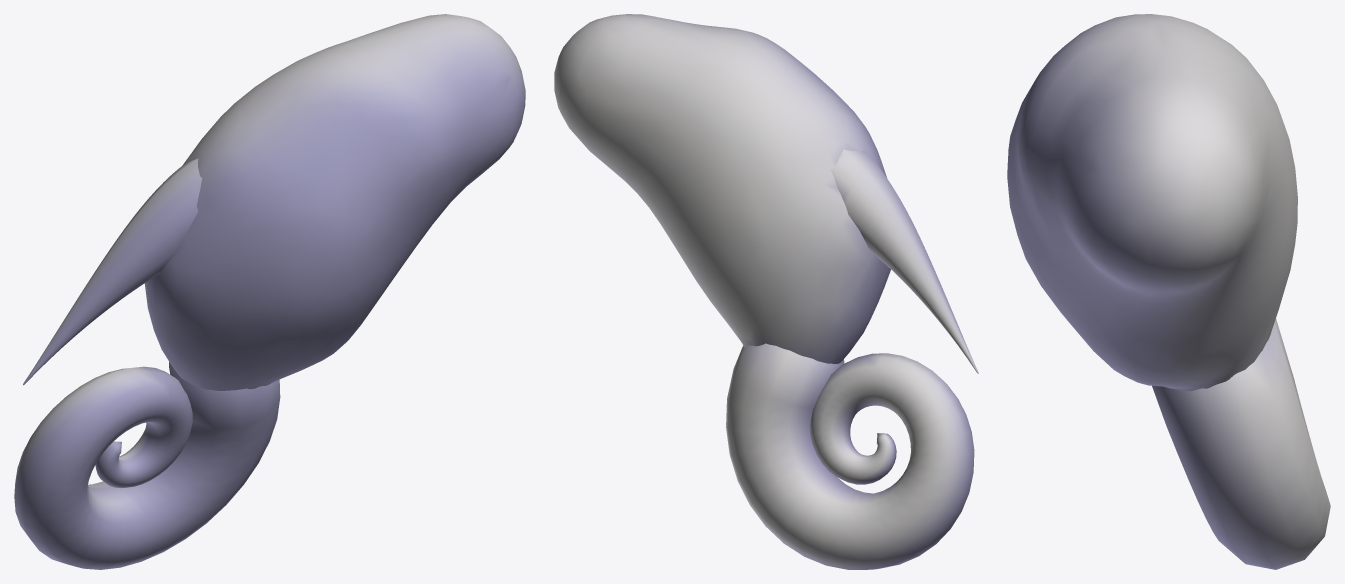
The model's file is gear5_lateral_esq.fbx.
The picture shows the model from 3 angles, left to right: view 1: azimuth 30°, elevation 25°; view 2: azimuth 150°, elevation 25°; view 3: azimuth 270°, elevation 25°; orthographic projection. The views are drawn at different scales.
Parts seen in each view (by area): view 1: gear5_lateral_esq; view 2: gear5_lateral_esq; view 3: gear5_lateral_esq.
Boxes of the visible parts, x1,y1,x2,y2 form: gear5_lateral_esq: [14, 14, 525, 569]; gear5_lateral_esq: [554, 14, 978, 569]; gear5_lateral_esq: [1007, 14, 1330, 569].
Bounding box in the file's own units: 2.47 × 2.49 × 1.15.
